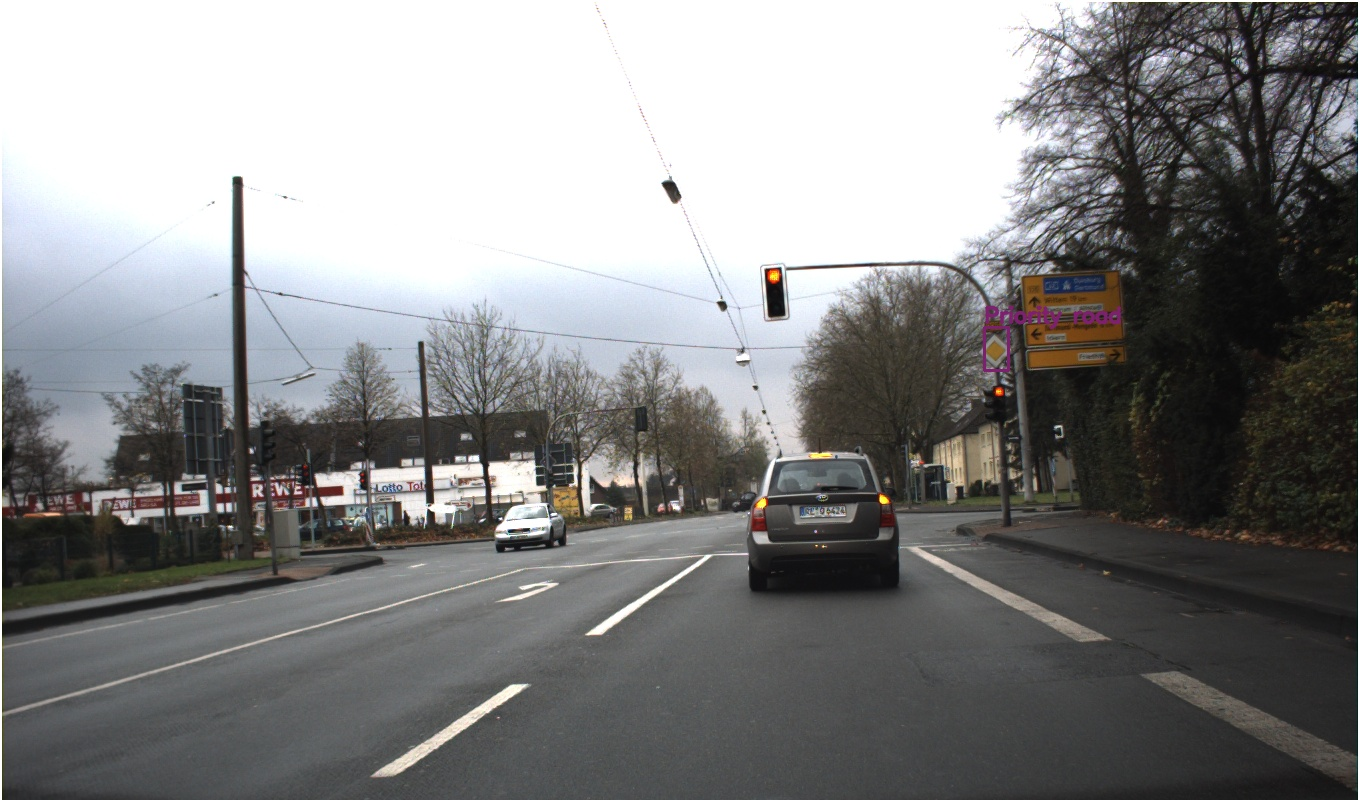No passing for vehicles over 3.5 metric tons: (1238, 349, 1282, 394), (491, 390, 530, 429)
